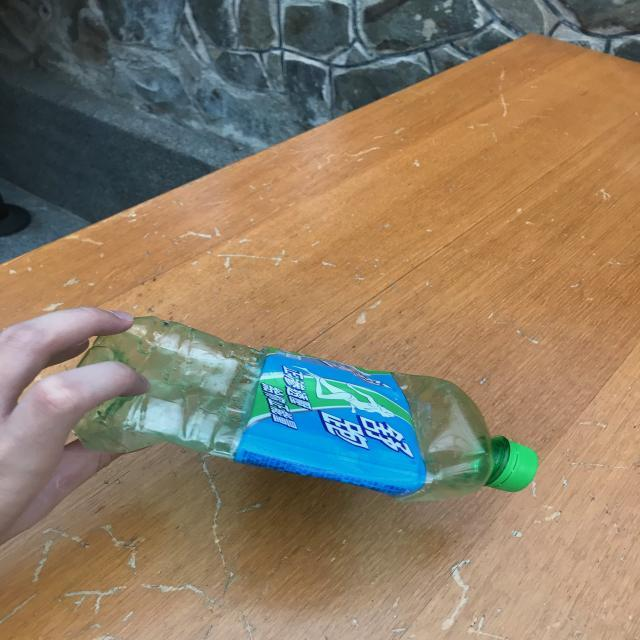plastic_bottle: (70, 315, 538, 502)
